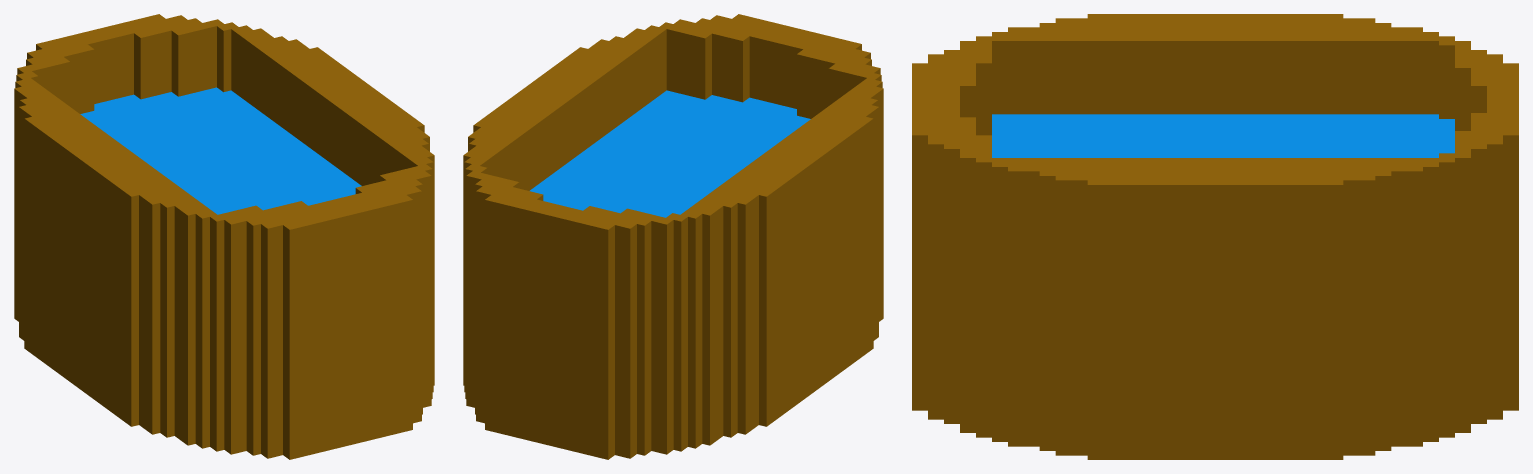
The model's file is sink.glb.
The picture shows the model from 3 angles, left to right: view 1: azimuth 30°, elevation 25°; view 2: azimuth 150°, elevation 25°; view 3: azimuth 270°, elevation 25°; orthographic projection. The views are drawn at different scales.
Parts seen in each view (by area): view 1: Untitled; view 2: Untitled; view 3: Untitled.
Boxes of the visible parts, left/top/right/bottom form: Untitled: left=14, top=14, right=434, bottom=459; Untitled: left=463, top=14, right=883, bottom=459; Untitled: left=912, top=14, right=1518, bottom=459.
Bounding box in the file's own units: 1 × 0.75 × 1.5.
1 material, 1 textured.
